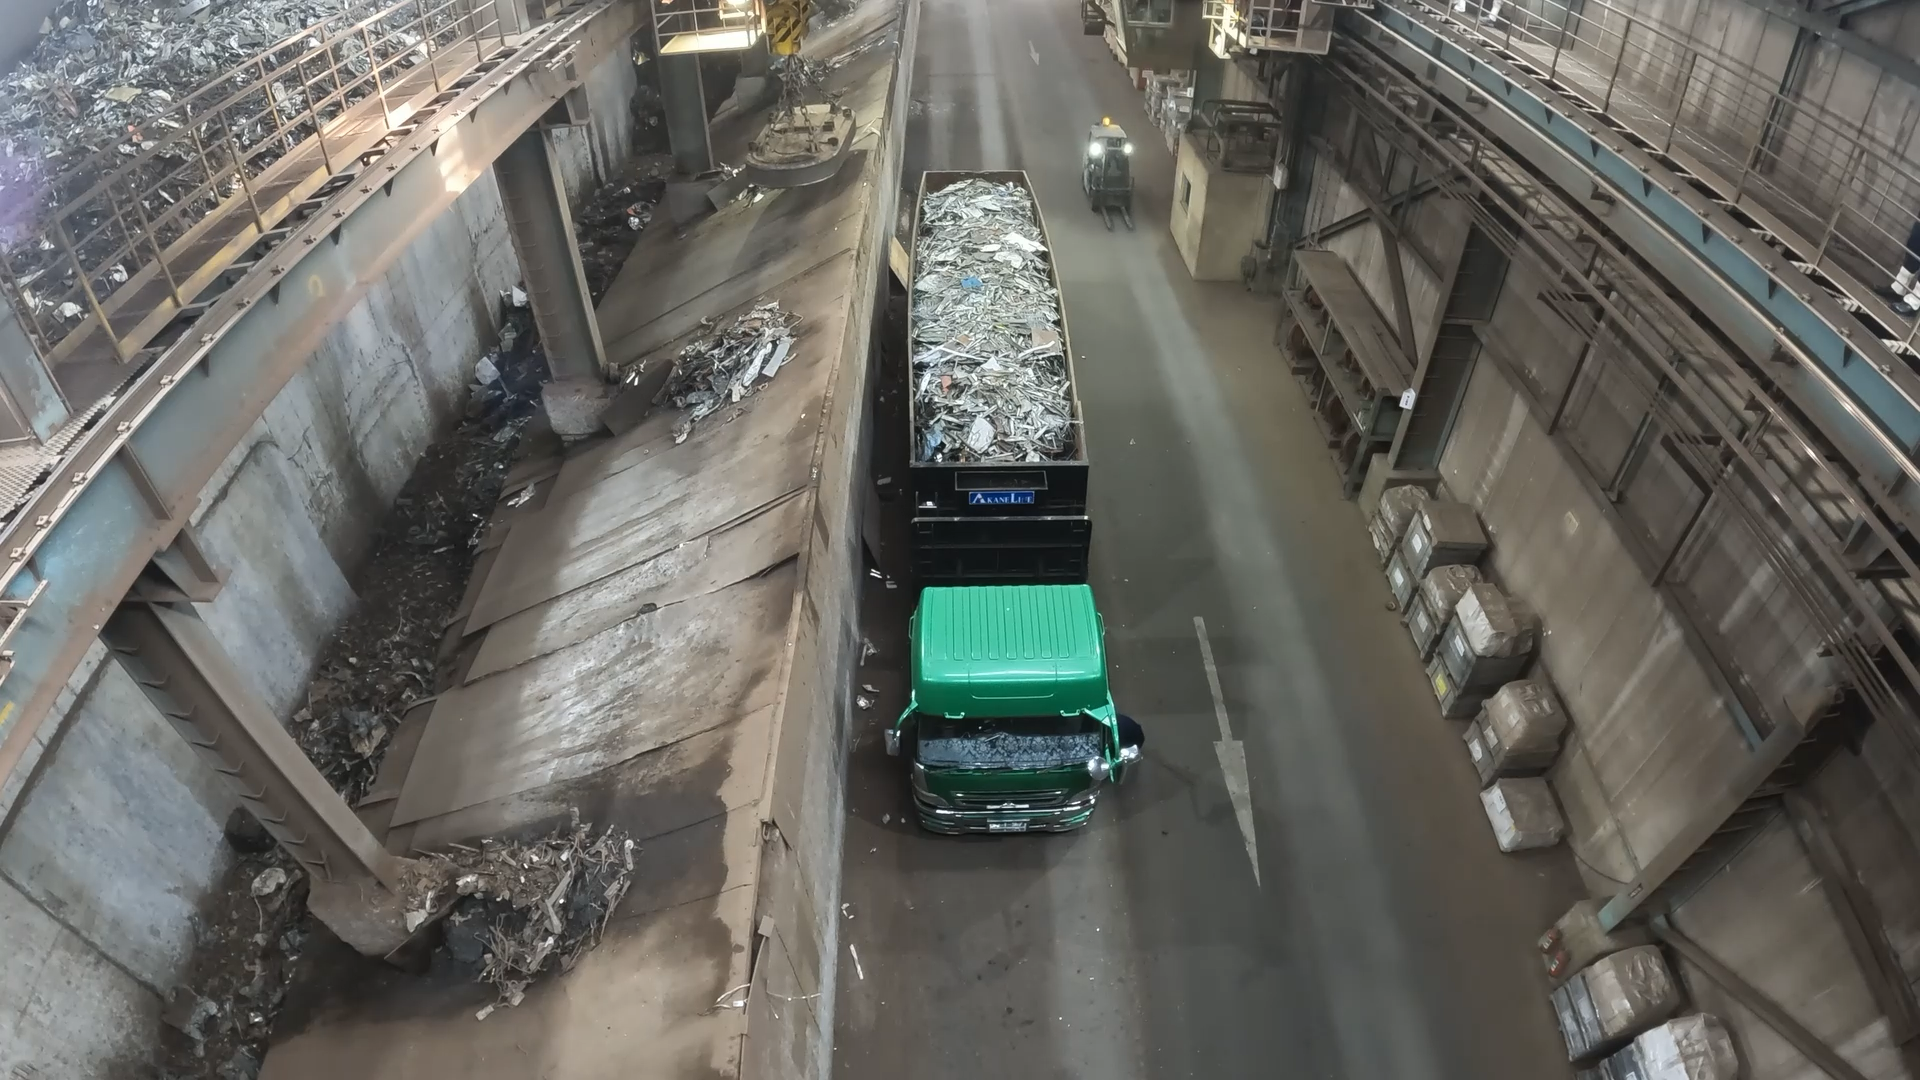truck: (907, 169, 1091, 467)
